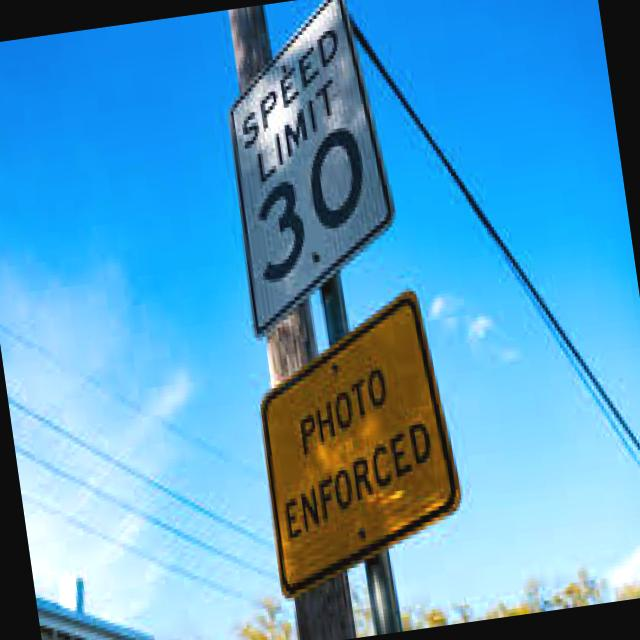Speed Limit Signs: (205, 0, 410, 338)
